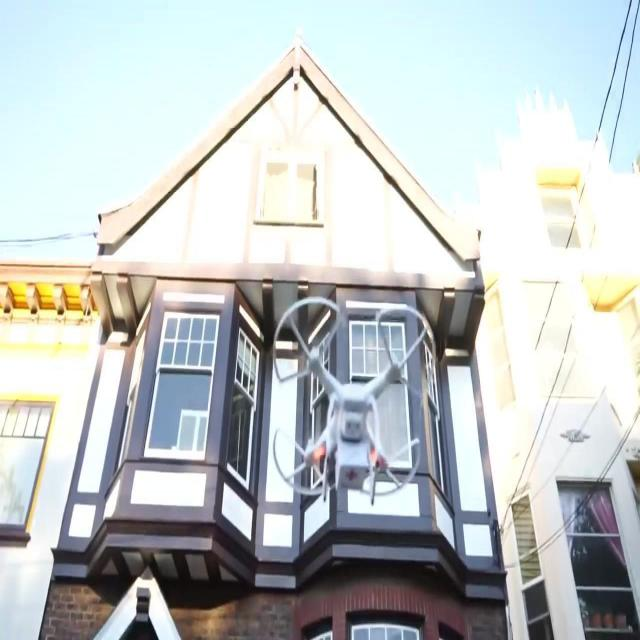UAV: (272, 296, 436, 504)
